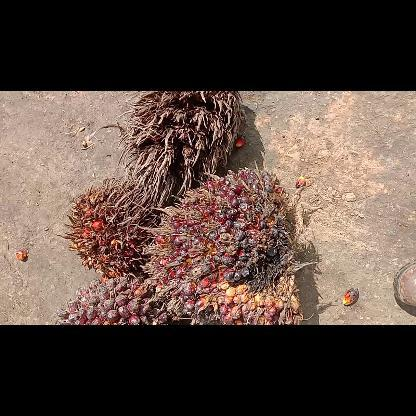Janjang kosong: (107, 91, 245, 207)
Kurang masak: (50, 274, 176, 324)
TBS masak: (138, 168, 318, 324)
Terlalu masak: (56, 178, 164, 281)
